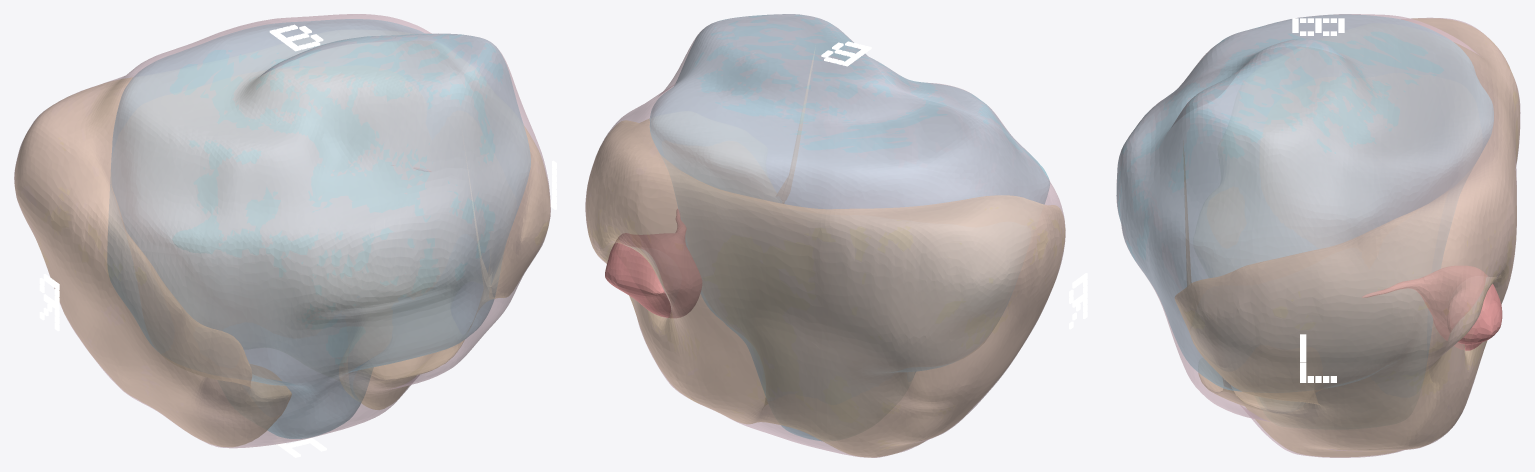
The picture shows the model from 3 angles, left to right: view 1: azimuth 30°, elevation 25°; view 2: azimuth 150°, elevation 25°; view 3: azimuth 270°, elevation 25°; orthographic projection. The views are drawn at different scales.
Parts seen in each view (by area): view 1: prostate_gland, transition_zone, peripheral_zone, pv_ar_marker_B, pv_ar_marker_R; view 2: prostate_gland, peripheral_zone, transition_zone, lesion_01, pv_ar_marker_B, pv_ar_marker_R; view 3: prostate_gland, transition_zone, peripheral_zone, lesion_01, pv_ar_marker_B, pv_ar_marker_L.
Boxes of the visible parts, x1,y1,x2,y2 form: prostate_gland: (14, 14, 550, 448); transition_zone: (107, 19, 530, 438); peripheral_zone: (14, 77, 550, 446); pv_ar_marker_B: (269, 24, 323, 51); pv_ar_marker_R: (39, 274, 59, 331); prostate_gland: (585, 14, 1065, 457); peripheral_zone: (586, 51, 1065, 457); transition_zone: (650, 14, 1049, 440); lesion_01: (605, 209, 701, 317); pv_ar_marker_B: (821, 41, 871, 66); pv_ar_marker_R: (1069, 273, 1087, 329); prostate_gland: (1116, 14, 1520, 457); transition_zone: (1116, 14, 1493, 391); peripheral_zone: (1175, 18, 1519, 456); lesion_01: (1362, 266, 1502, 350); pv_ar_marker_B: (1292, 18, 1344, 35); pv_ar_marker_L: (1300, 334, 1336, 382).
Size of the model in its own units: 0.0519 by 0.0406 by 0.0357.
